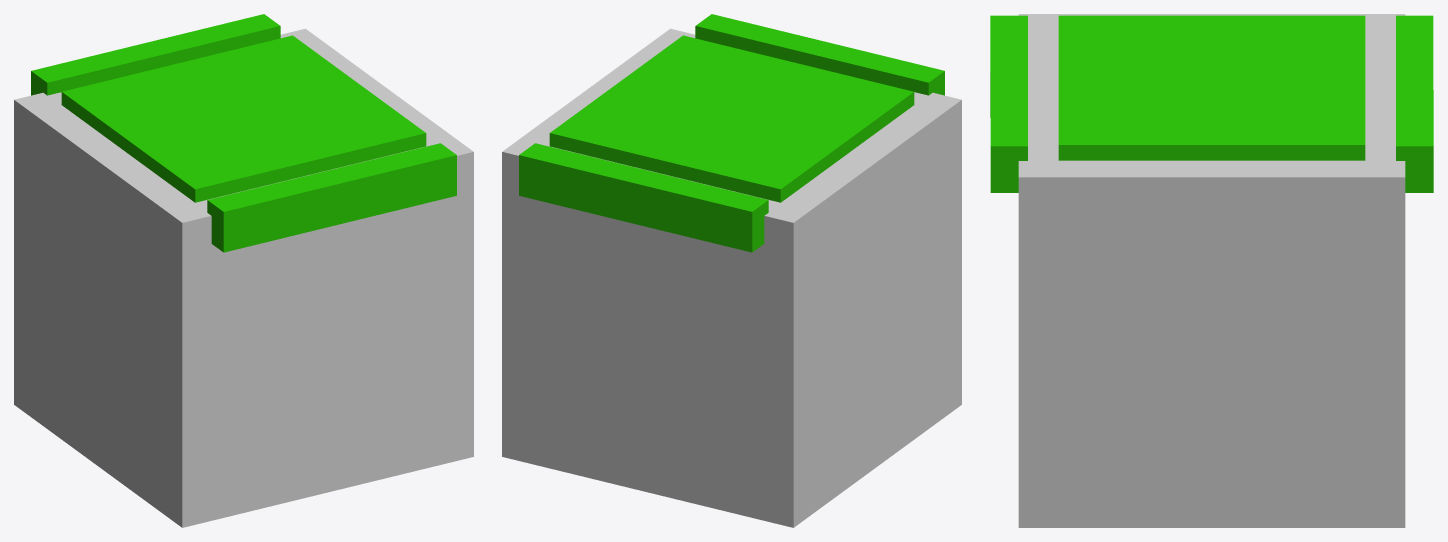
File: TileMetalBridgeHight.fbx
3 renders of one model, left to right at view 1: azimuth 30°, elevation 25°; view 2: azimuth 150°, elevation 25°; view 3: azimuth 270°, elevation 25°, orthographic. The views are drawn at different scales.
Parts seen in each view (by area): view 1: TileMetalBridgeHight; view 2: TileMetalBridgeHight; view 3: TileMetalBridgeHight.
Boxes of the visible parts, box(x1,y1,x2,y2) form: TileMetalBridgeHight: box(14, 14, 473, 527); TileMetalBridgeHight: box(502, 14, 961, 527); TileMetalBridgeHight: box(990, 14, 1433, 527).
Bounding box in the file's own units: 100 × 104 × 115.
